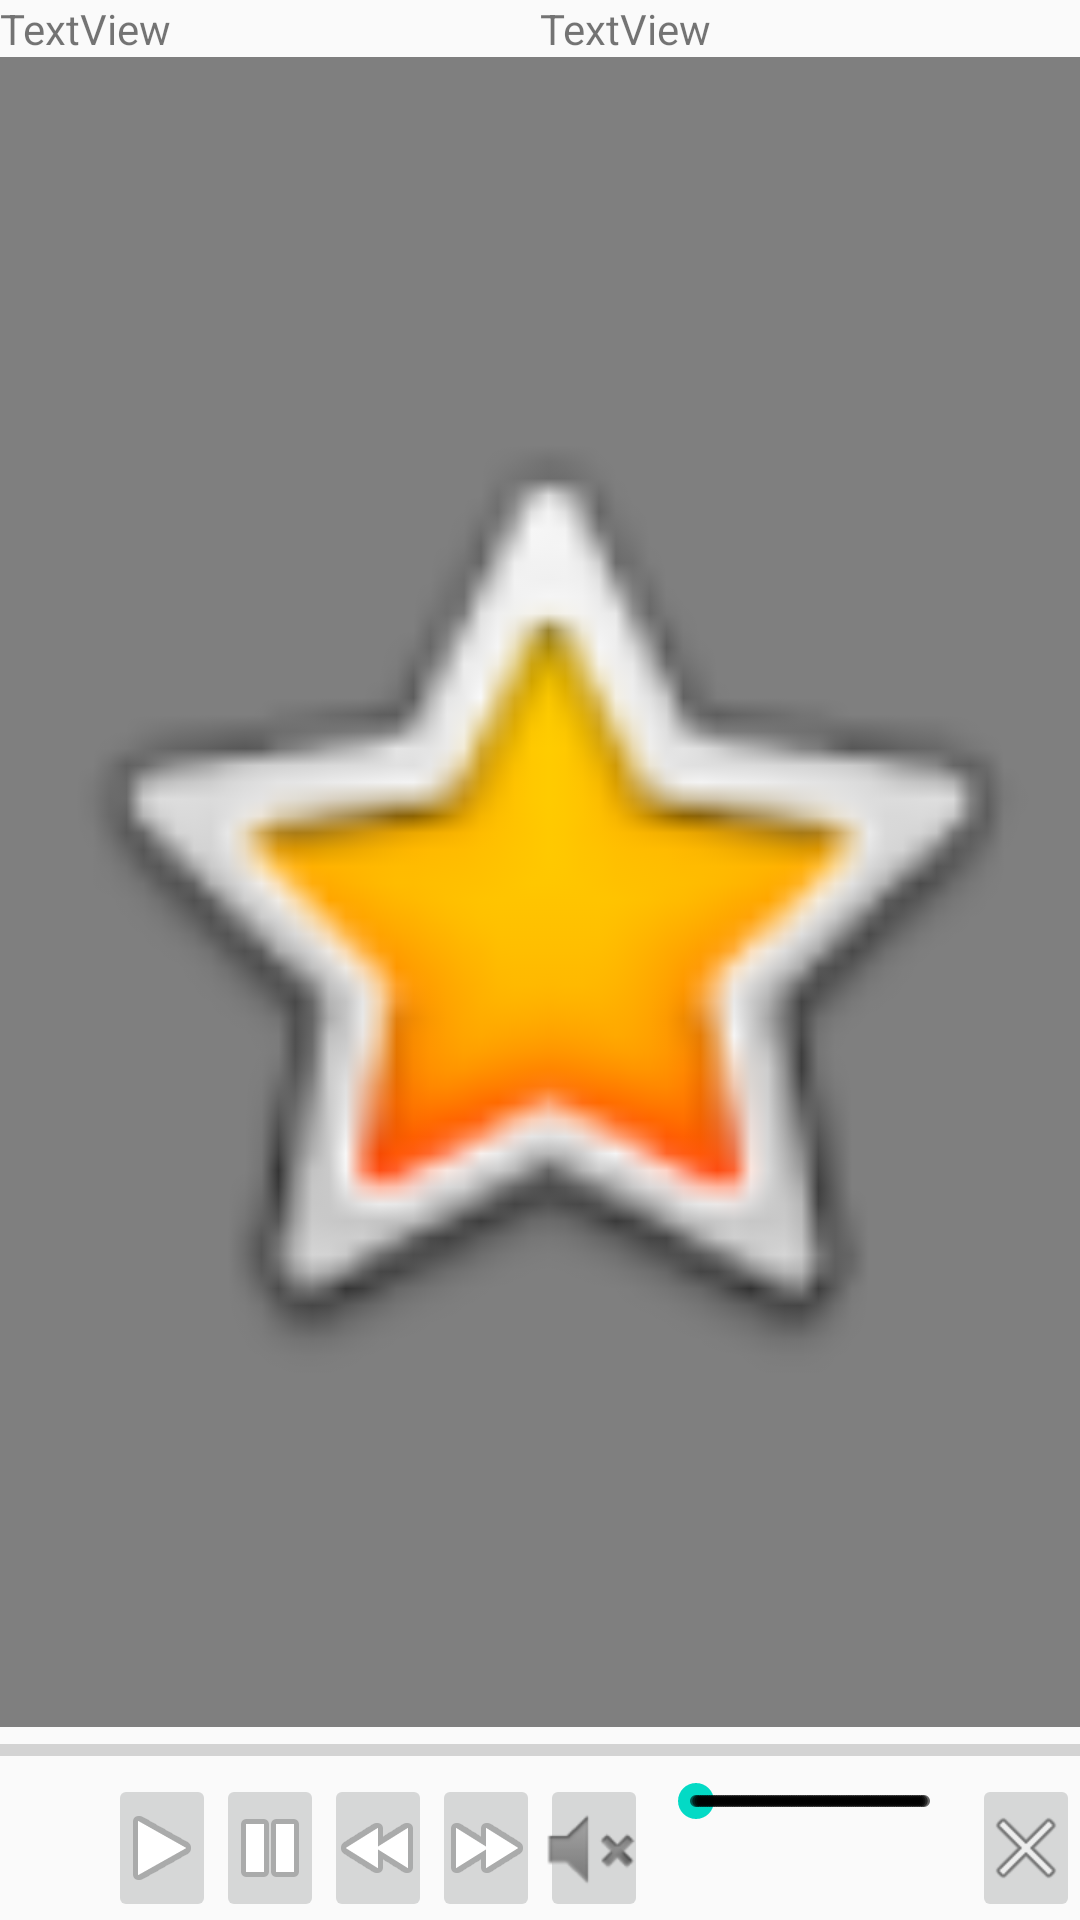

Point at icon controls on the screen. Image size 1080×1920, points as [x,y].
close clear cancel: [1026,1848]
lock silent mode: [592,1848]
pause: [270,1848]
play: [162,1848]
rew: [378,1848]
